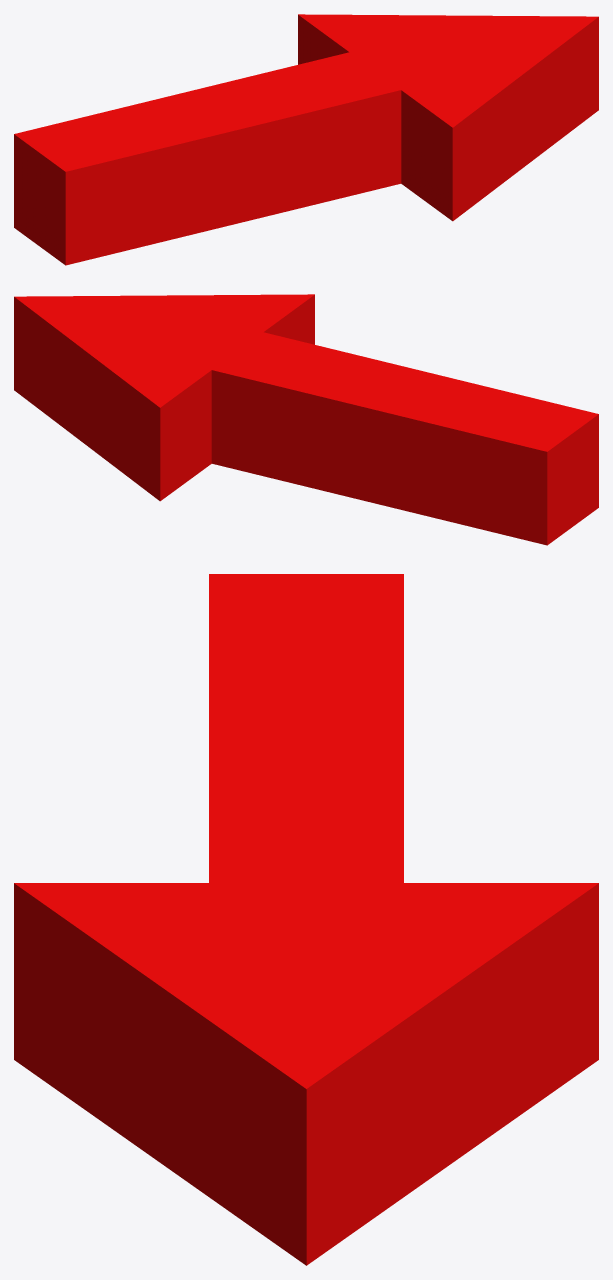
File: arrow.glb
The picture shows the model from 3 angles, top to bottom: view 1: azimuth 30°, elevation 25°; view 2: azimuth 150°, elevation 25°; view 3: azimuth 270°, elevation 25°; orthographic projection. The views are drawn at different scales.
Visible parts, largest first — view 1: Arrow; view 2: Arrow; view 3: Arrow.
Part boxes in pixels (box(x1,y1,x2,y2)): Arrow: box(14, 14, 598, 265); Arrow: box(14, 294, 598, 545); Arrow: box(14, 574, 598, 1265).
Size of the model in its own units: 2.5 by 0.4 by 1.2.
